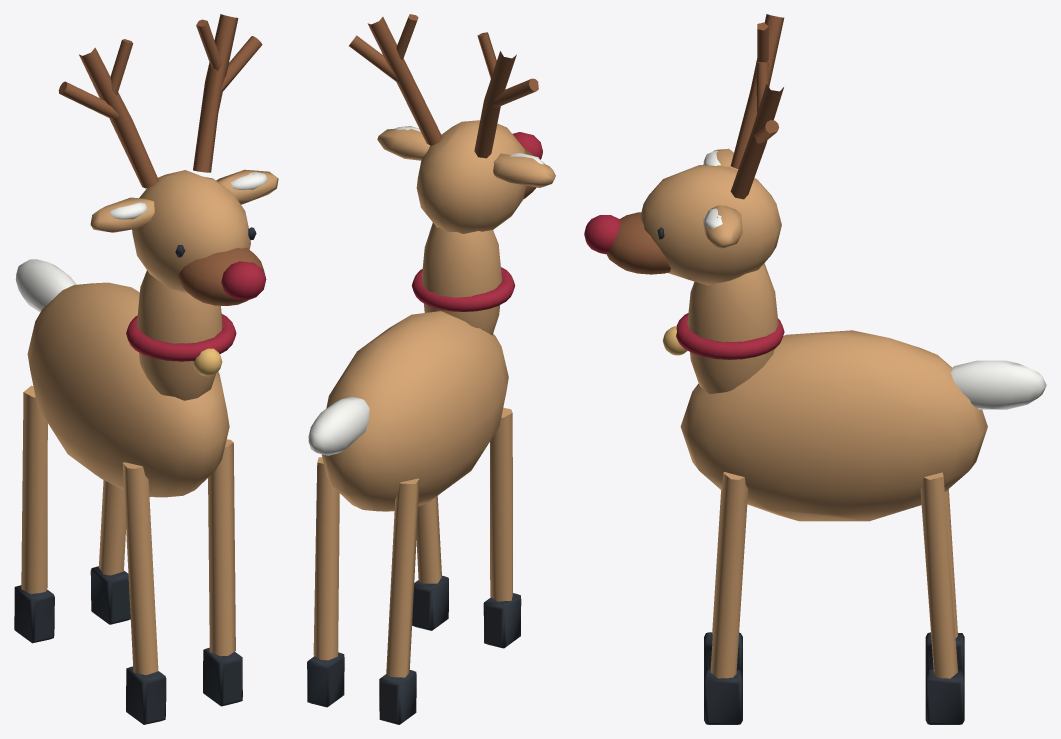
Rendered from reindeer.glb.
The picture shows the model from 3 angles, left to right: view 1: azimuth 30°, elevation 25°; view 2: azimuth 150°, elevation 25°; view 3: azimuth 270°, elevation 25°; orthographic projection. The views are drawn at different scales.
Visible parts, largest first — view 1: biscuit, oak, ink, berry, cream, brass; view 2: biscuit, ink, oak, cream, berry; view 3: biscuit, oak, ink, cream, berry.
Part boxes in pixels (<box>): biscuit: <box>21,169,278,675</box>; oak: <box>58,14,264,305</box>; ink: <box>14,227,256,724</box>; berry: <box>126,261,266,361</box>; cream: <box>15,172,267,312</box>; brass: <box>193,348,222,376</box>; biscuit: <box>313,120,555,677</box>; ink: <box>307,575,521,724</box>; oak: <box>349,14,538,198</box>; cream: <box>308,126,544,455</box>; berry: <box>411,132,542,311</box>; biscuit: <box>640,148,987,678</box>; oak: <box>606,14,784,274</box>; ink: <box>657,227,964,724</box>; cream: <box>703,150,1046,409</box>; berry: <box>584,215,784,359</box>.
Bounding box in the file's own units: 0.705 × 2.23 × 1.41.
